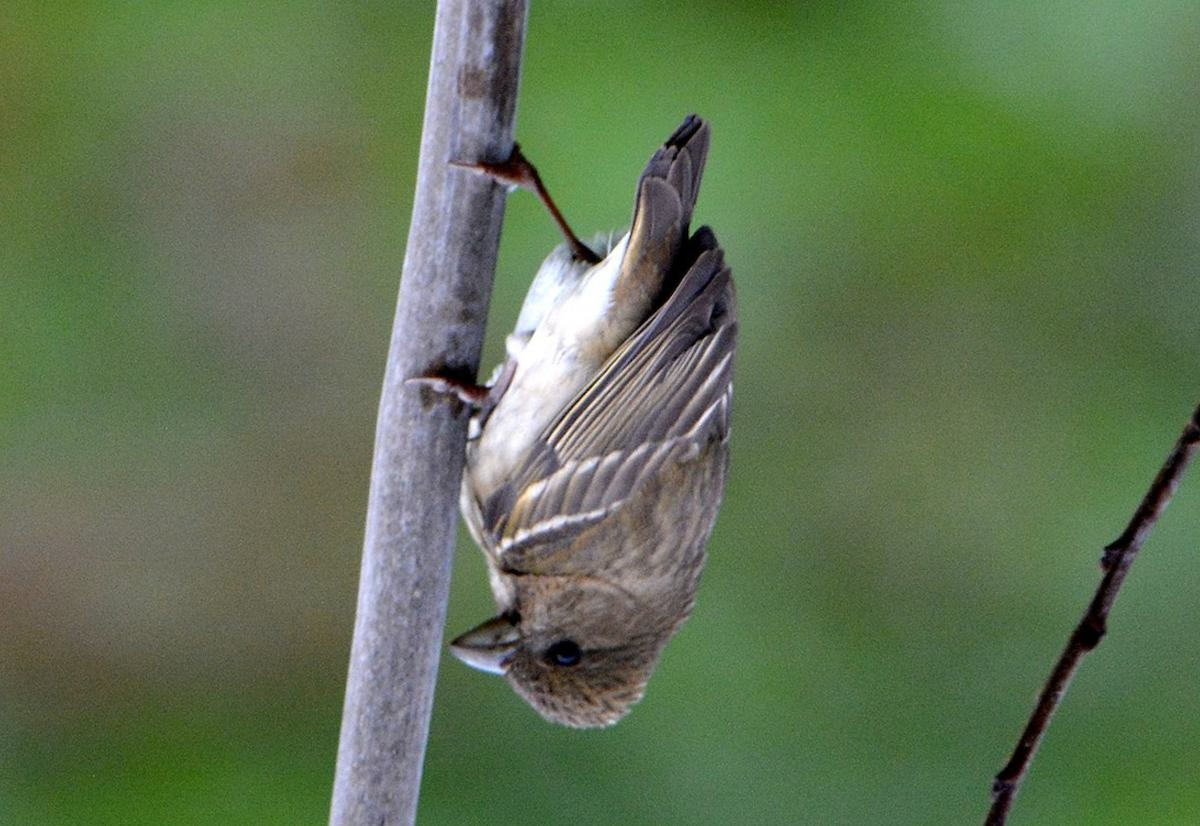rosefinch: (469, 158, 805, 750)
